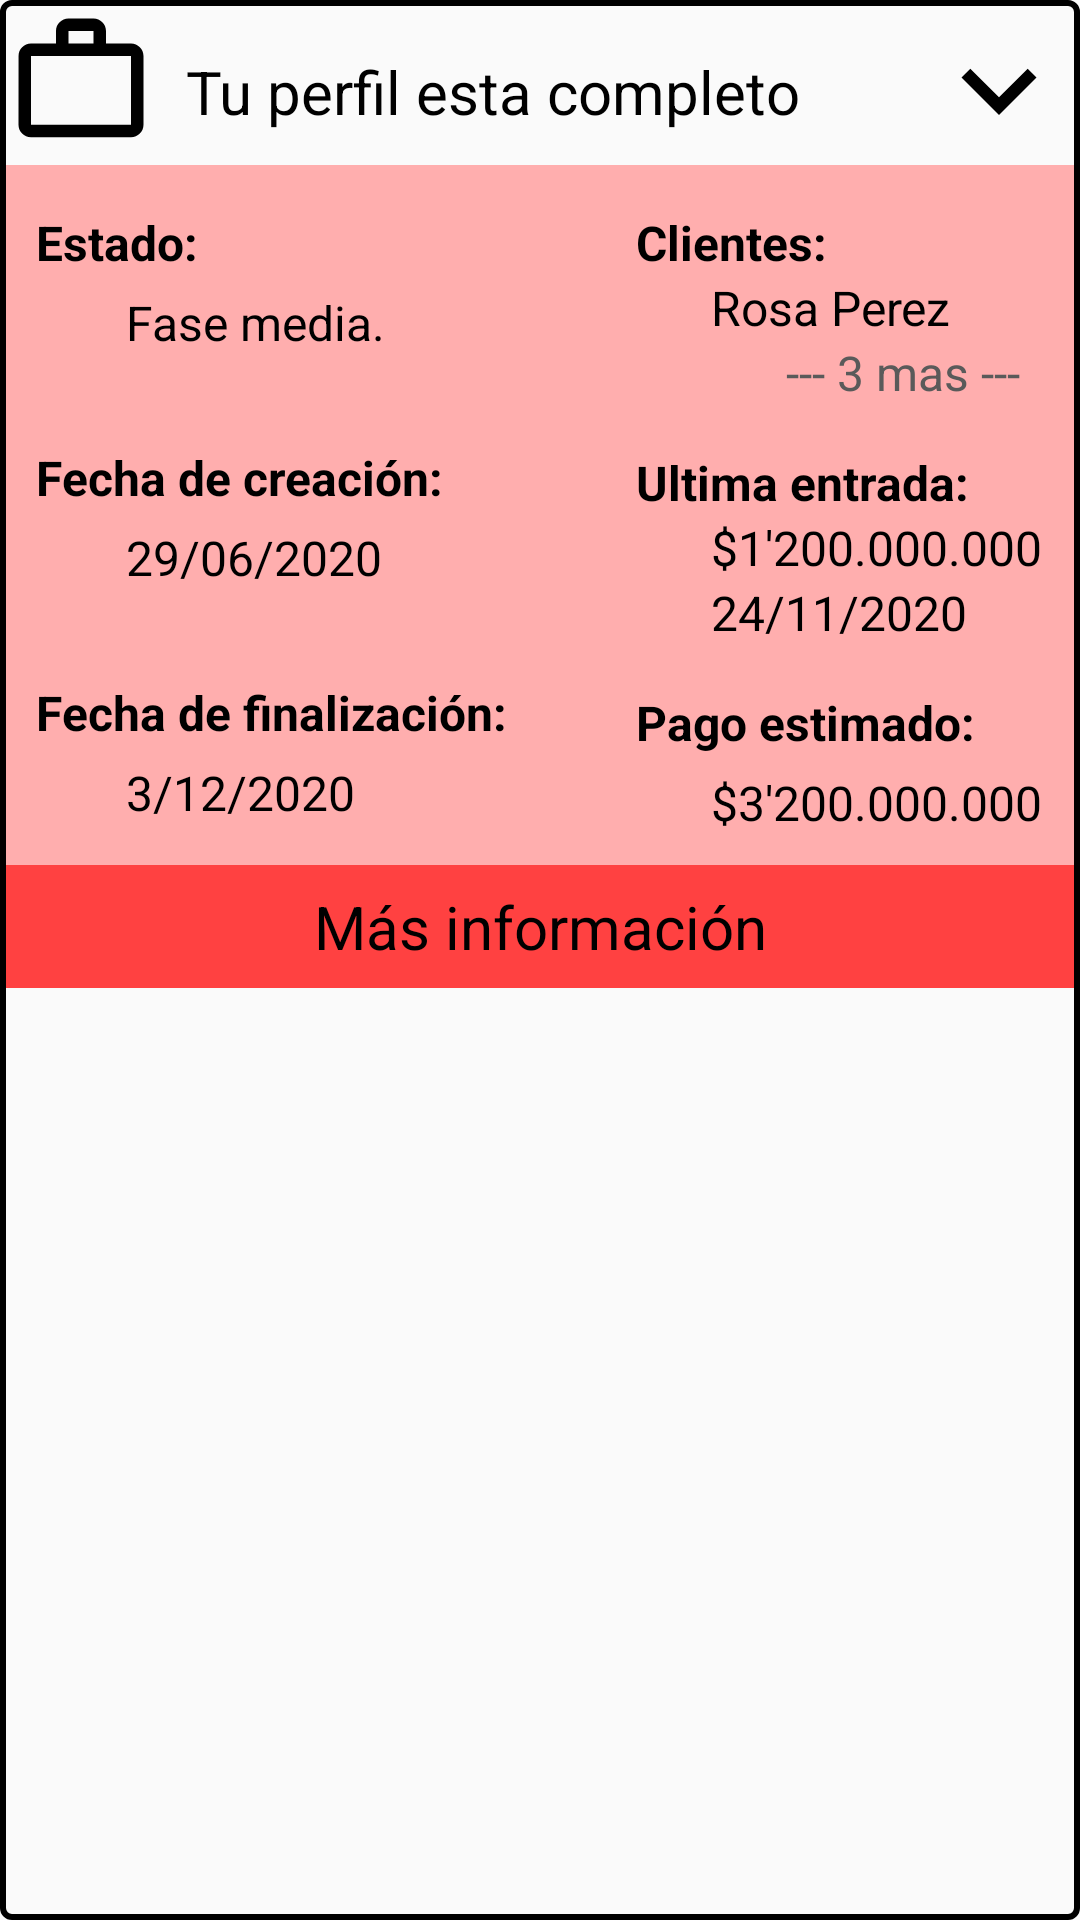

Screen size 1080px×1920px. Icon name, then its center in pixels as (x=x, y=y):
arrow down: (x=999, y=92)
work main: (x=81, y=78)
